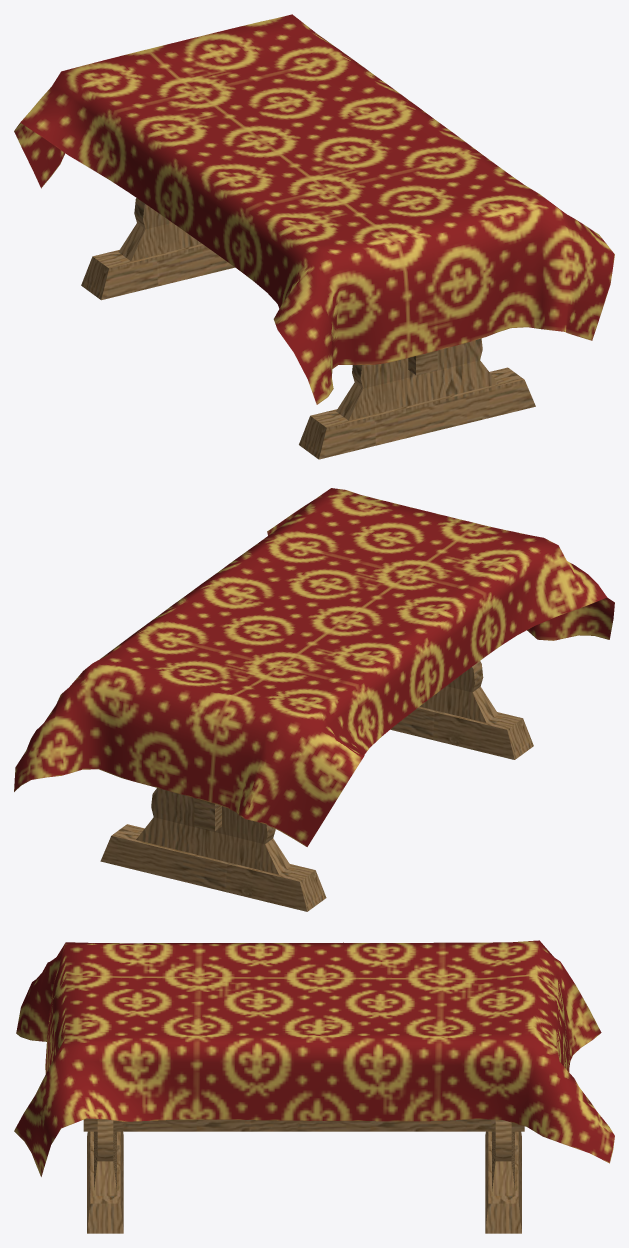
File: Table.fbx
3 renders of one model, top to bottom at view 1: azimuth 30°, elevation 25°; view 2: azimuth 150°, elevation 25°; view 3: azimuth 270°, elevation 25°, orthographic. The views are drawn at different scales.
Parts seen in each view (by area): view 1: Table; view 2: Table; view 3: Table.
Part boxes in pixels (x1,y1,x2,y2): Table: (14, 14, 614, 459); Table: (14, 488, 614, 911); Table: (14, 940, 614, 1233).
Size of the model in its own units: 4.65 by 2.78 by 7.74.
Materials: 2 (2 with a texture image).
